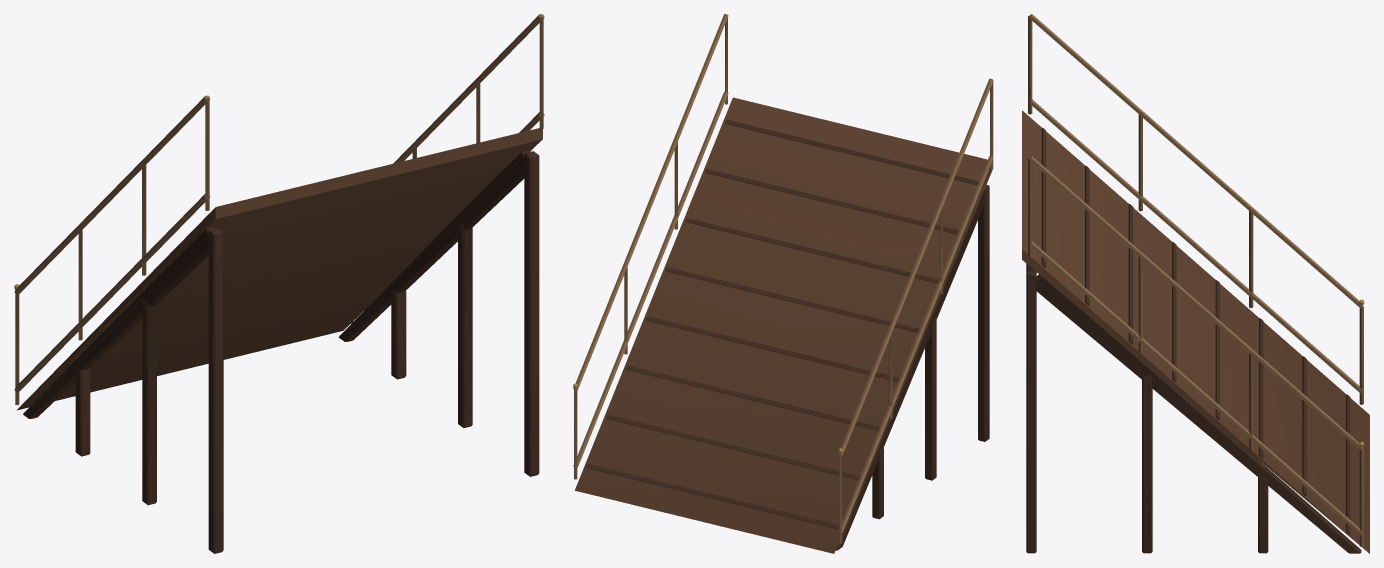
File: qb_ramp_wood.glb
3 views of the same model, side by side, from view 1: azimuth 30°, elevation 25°; view 2: azimuth 150°, elevation 25°; view 3: azimuth 270°, elevation 25° (orthographic). The views are drawn at different scales.
Parts seen in each view (by area): view 1: qb_ramp_wood; view 2: qb_ramp_wood; view 3: qb_ramp_wood.
Part boxes in pixels (bbox=[...]): qb_ramp_wood: bbox=[14, 14, 544, 553]; qb_ramp_wood: bbox=[573, 14, 993, 553]; qb_ramp_wood: bbox=[1022, 14, 1369, 553].
Bounding box in the file's own units: 2.95 × 3.8 × 3.
